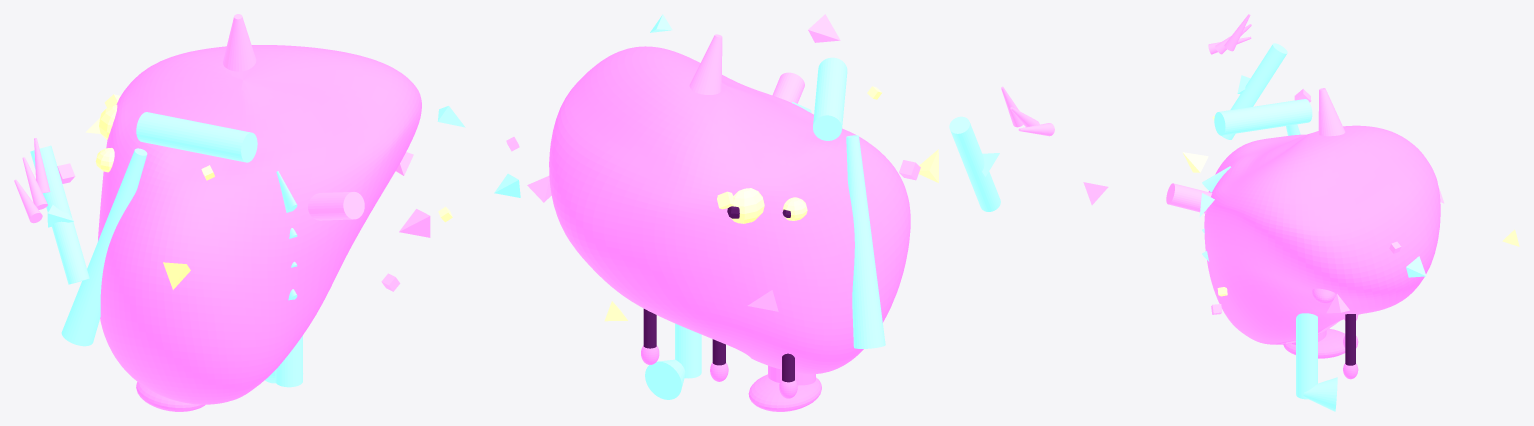
File: dalle_nightmare.glb
3 renders of one model, left to right at view 1: azimuth 30°, elevation 25°; view 2: azimuth 150°, elevation 25°; view 3: azimuth 270°, elevation 25°, orthographic. The views are drawn at different scales.
Parts seen in each view (by area): view 1: DalleNightmare; view 2: DalleNightmare; view 3: DalleNightmare.
Part boxes in pixels (box(x1,y1,x2,y2)): DalleNightmare: box(14, 14, 465, 411); DalleNightmare: box(494, 14, 1054, 411); DalleNightmare: box(1083, 14, 1519, 411).
Bounding box in the file's own units: 1.95 × 1.53 × 2.
